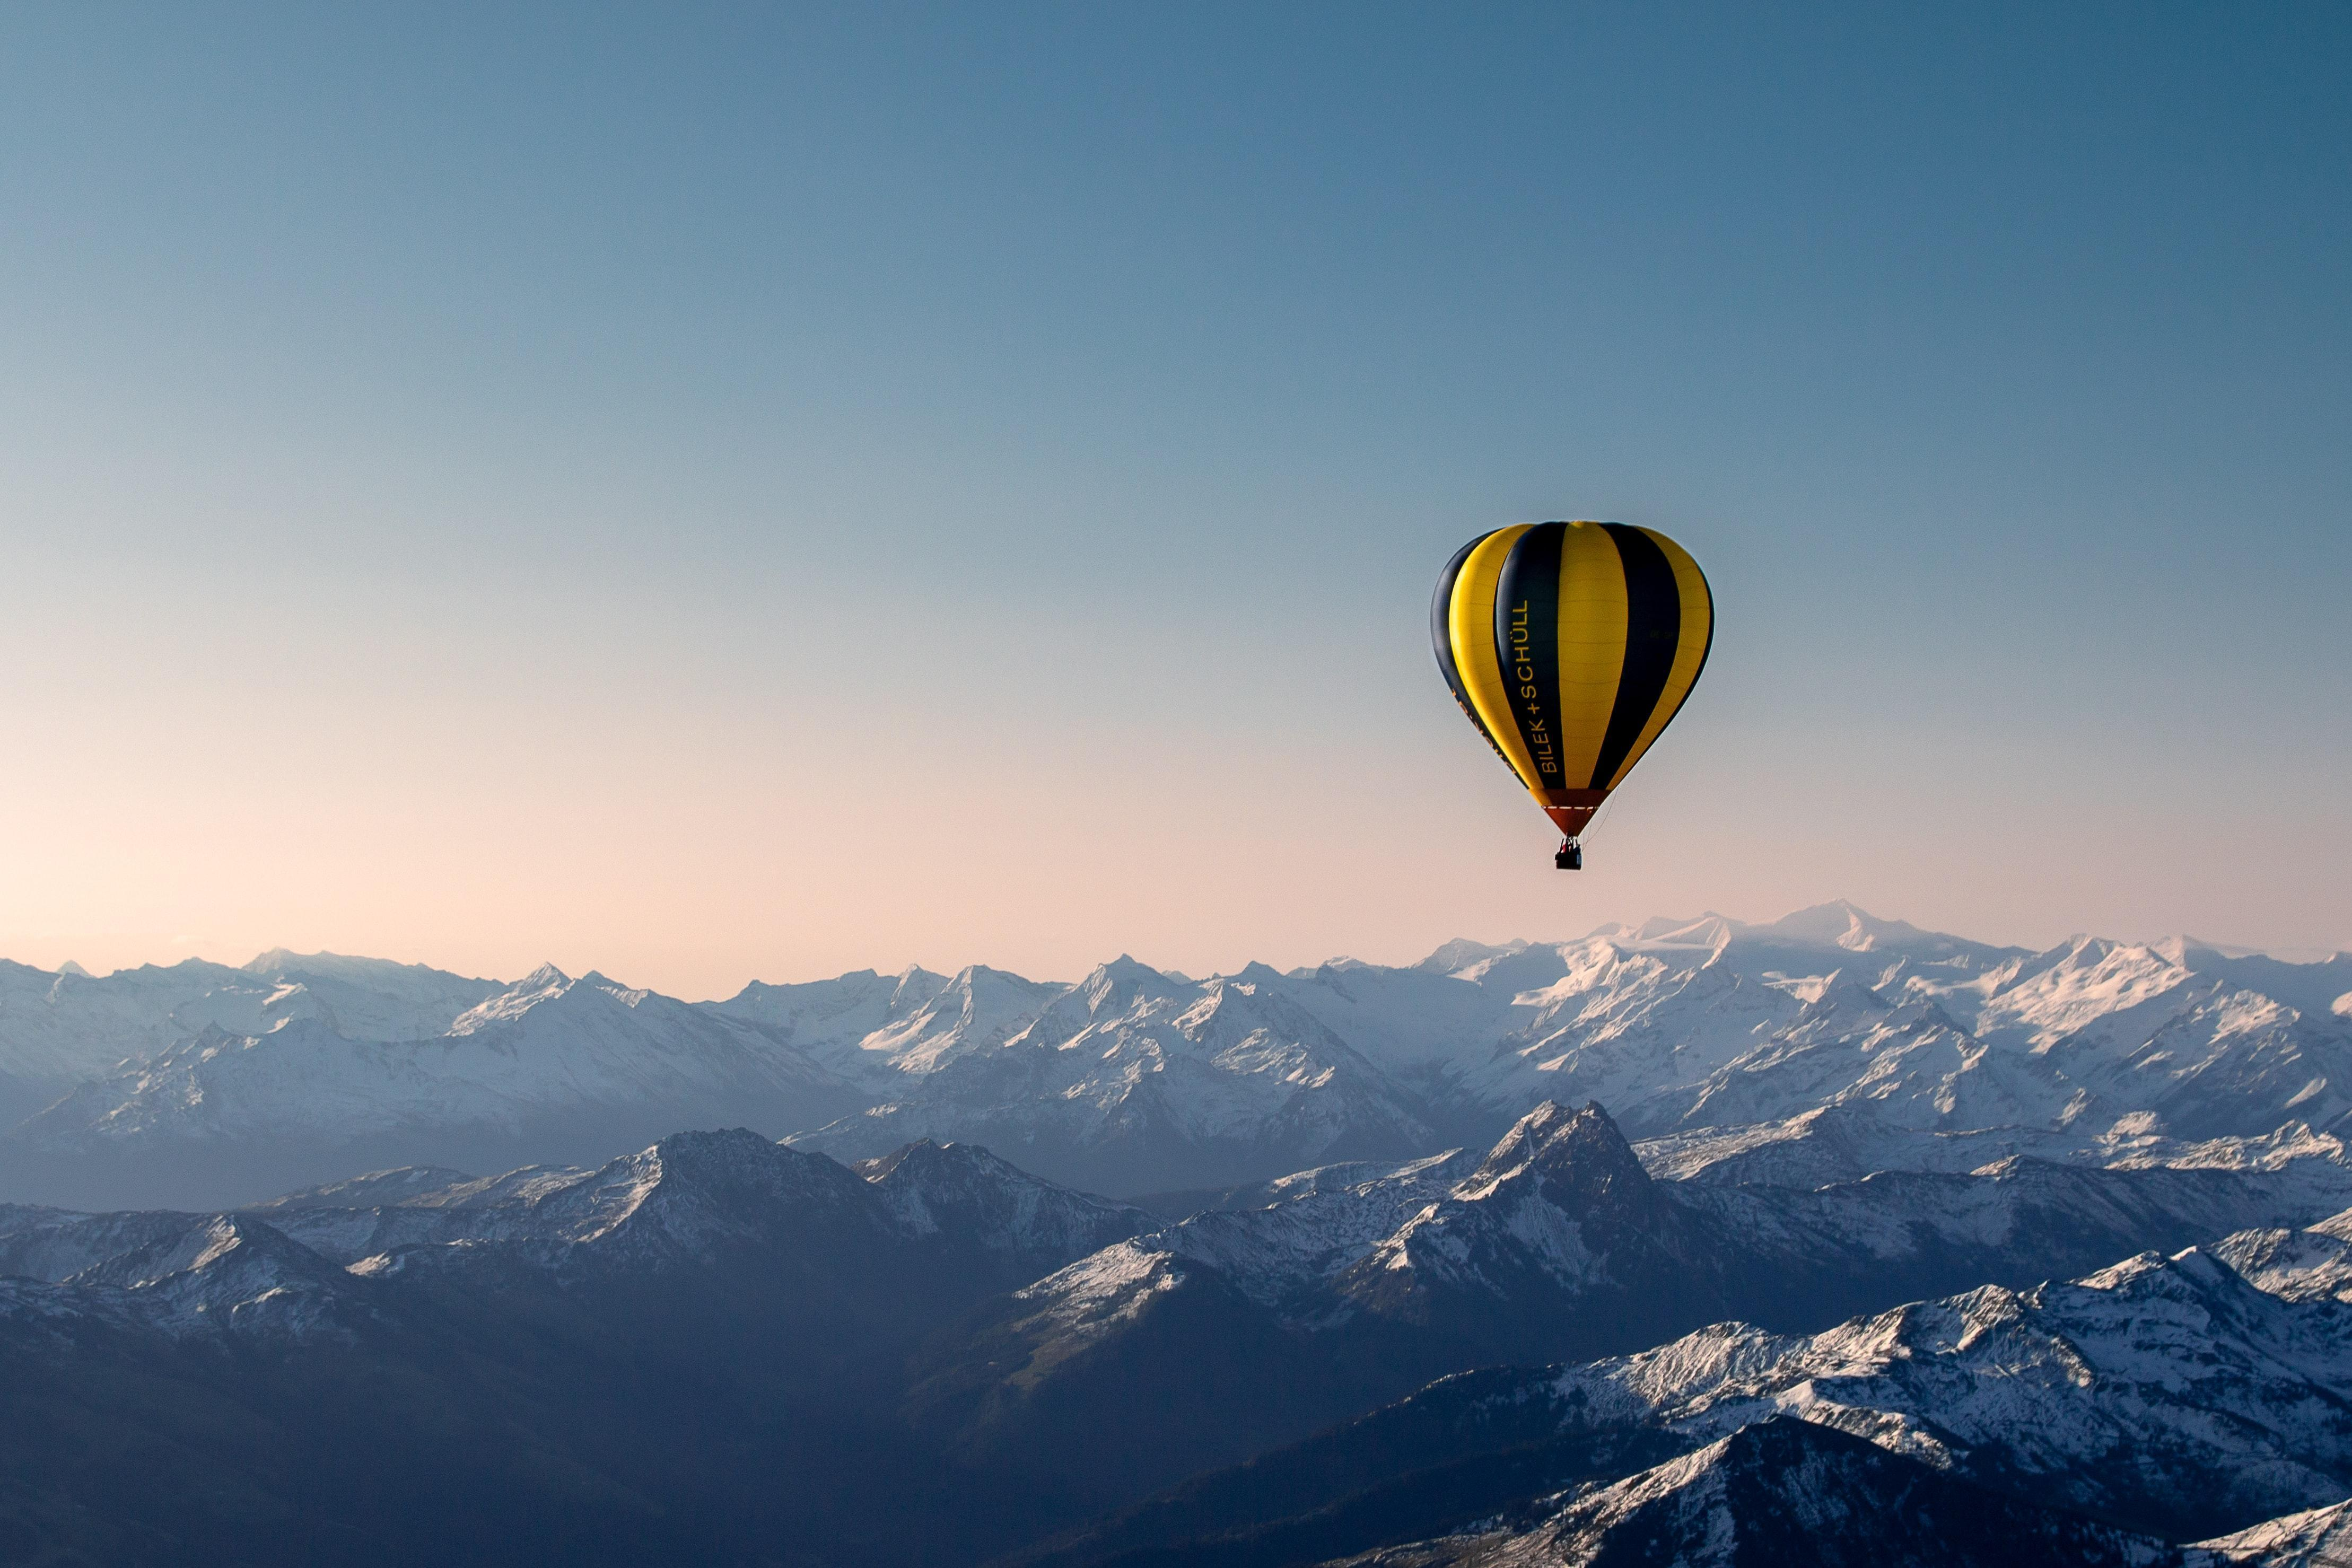hot air ballon: (1428, 518, 1718, 870)
